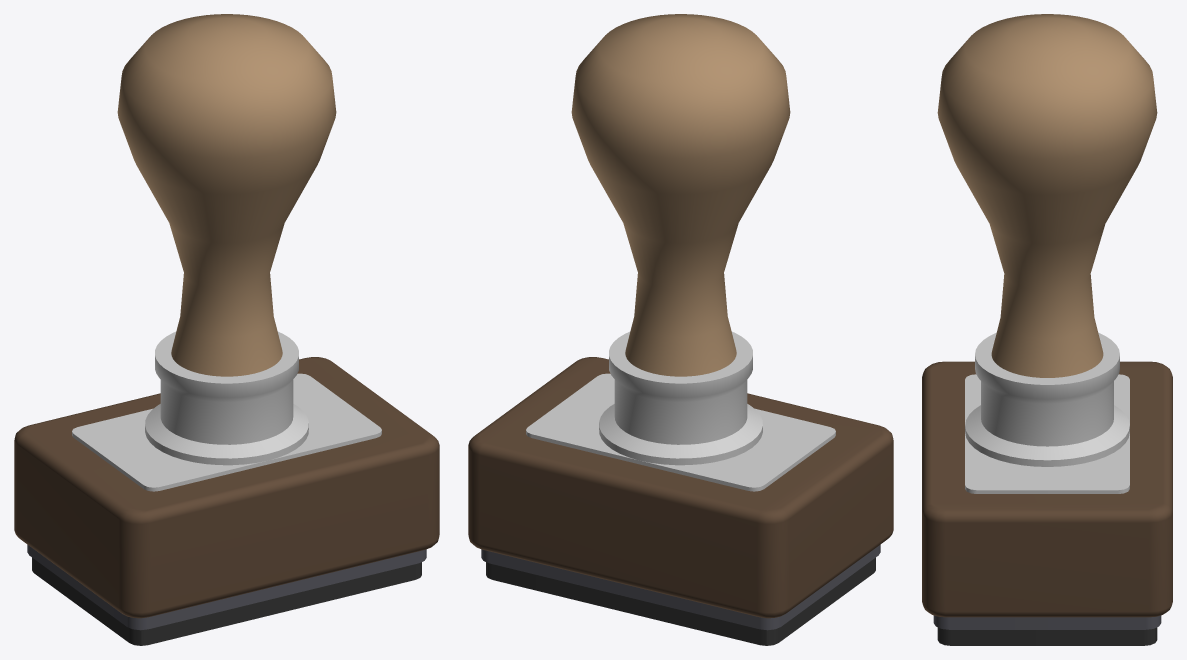
Rendered from VoidStamp.fbx.
3 renders of one model, left to right at view 1: azimuth 30°, elevation 25°; view 2: azimuth 150°, elevation 25°; view 3: azimuth 270°, elevation 25°, orthographic.
Visible parts, largest first — view 1: Body, Face; view 2: Body, Face; view 3: Body, Face.
Boxes of the visible parts, bbox=[...] form: Body: bbox=[14, 14, 439, 630]; Face: bbox=[32, 557, 421, 645]; Body: bbox=[468, 14, 893, 630]; Face: bbox=[486, 557, 875, 645]; Body: bbox=[922, 14, 1172, 629]; Face: bbox=[937, 627, 1157, 645].
Size of the model in its own units: 0.094 by 0.153 by 0.064.
